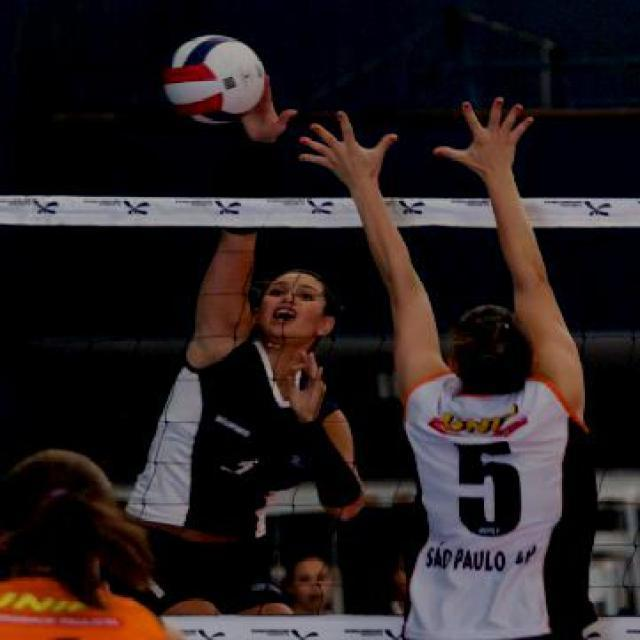volleyball: (164, 35, 265, 124)
